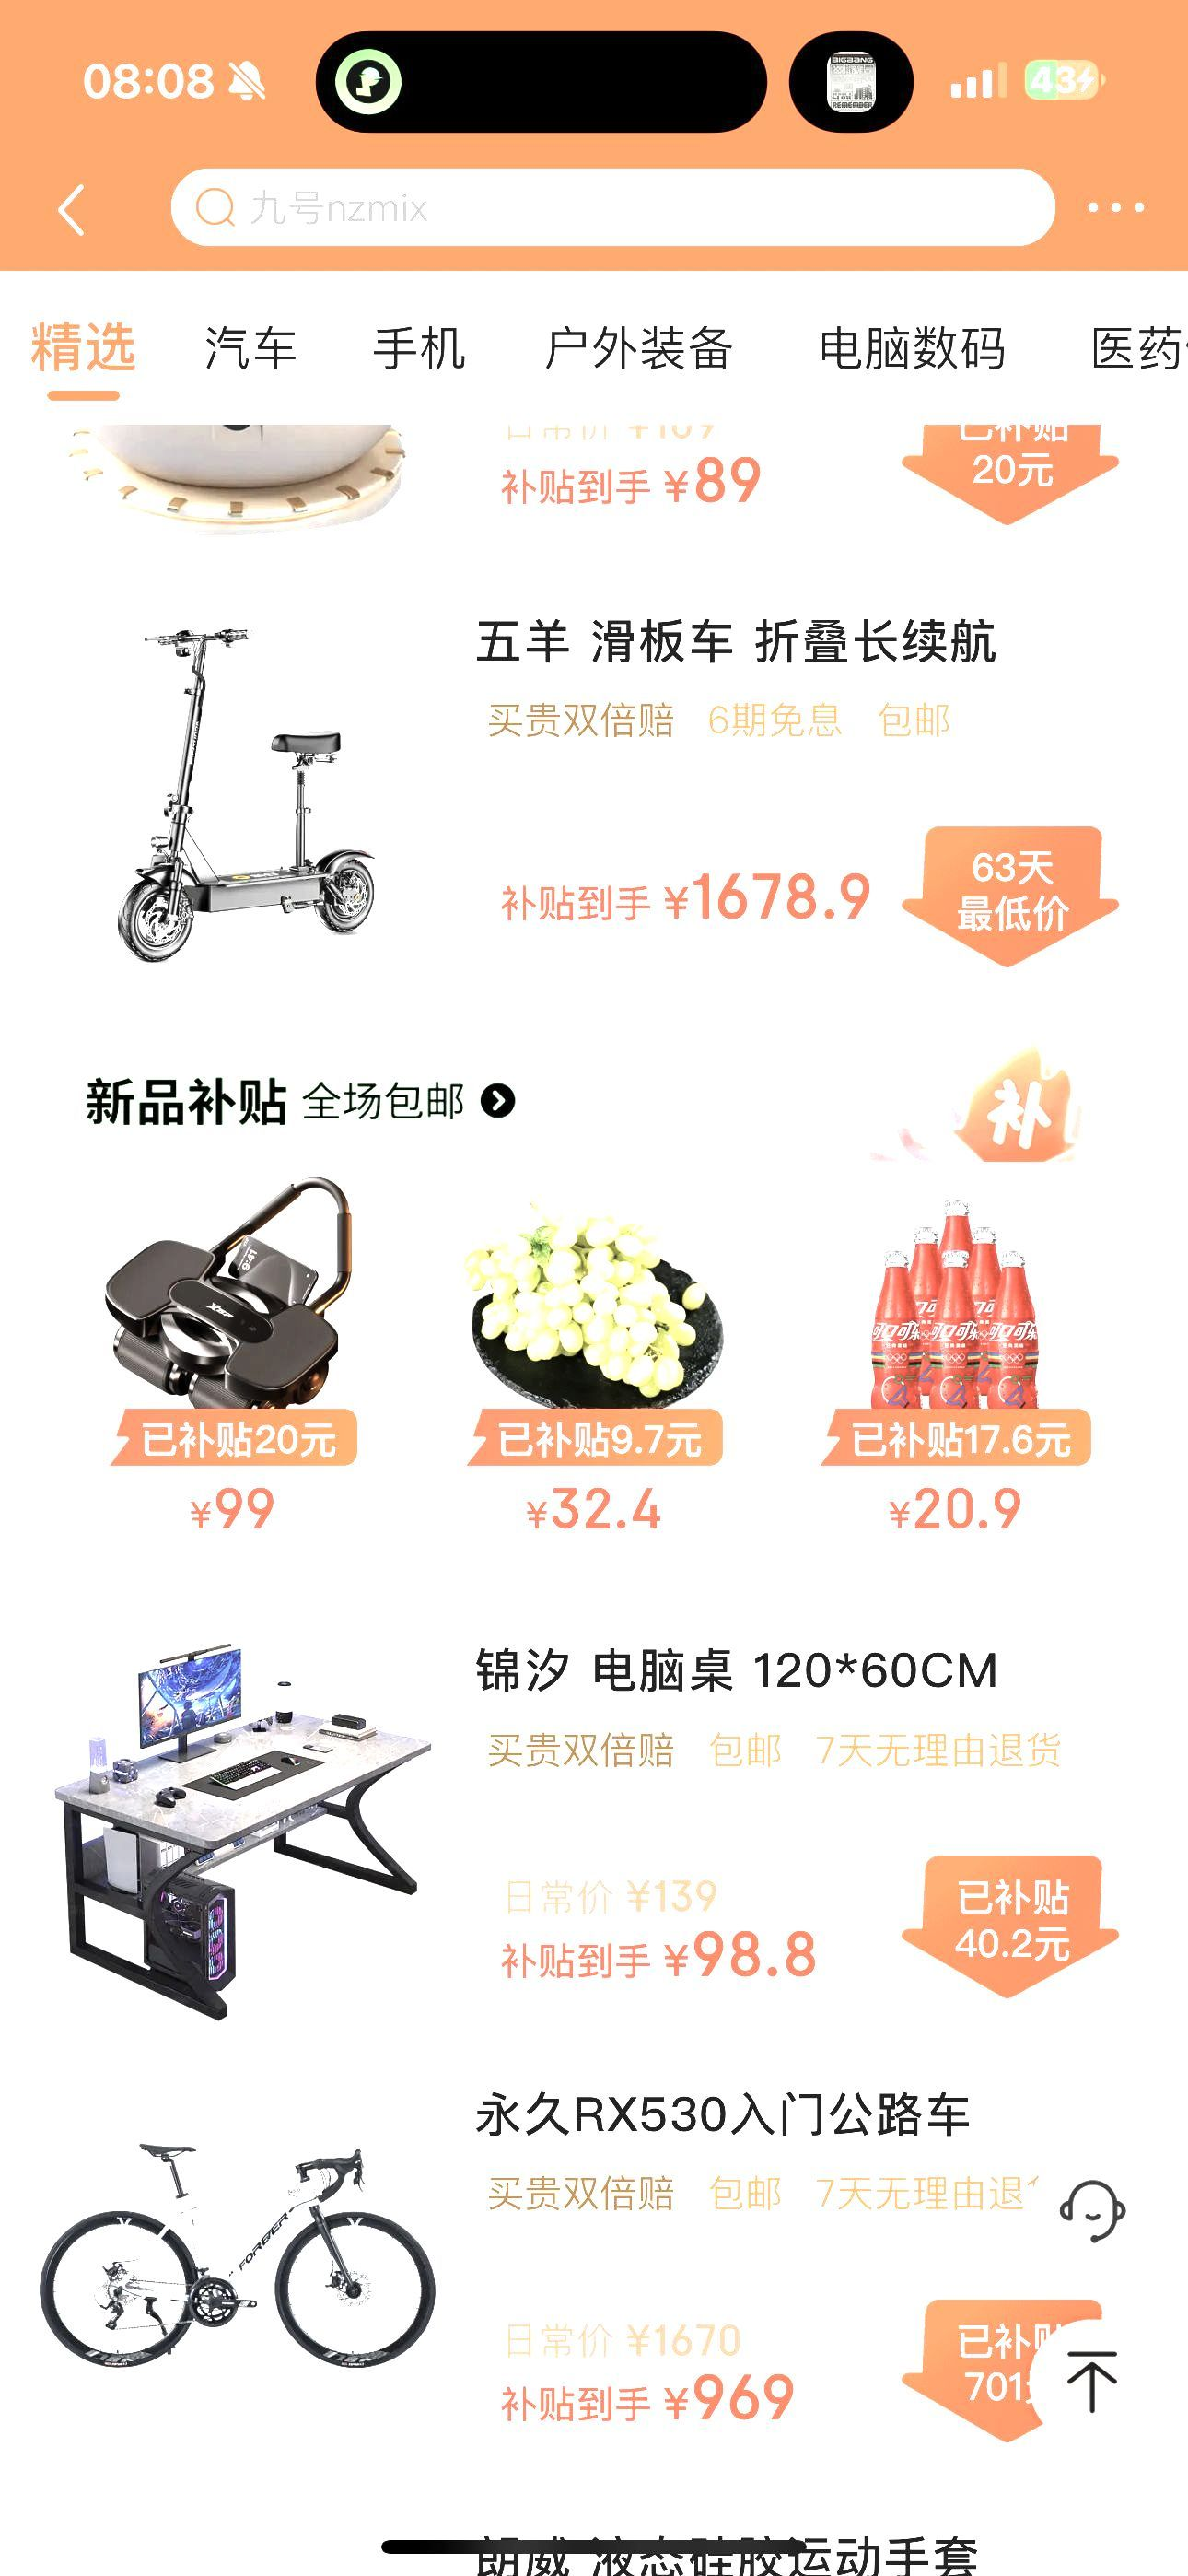banner: (39, 1028, 1152, 1589)
item: (35, 590, 1158, 1007), (35, 2072, 1170, 2484), (39, 1621, 1157, 2037)
op_bar: (2, 140, 1188, 261)
